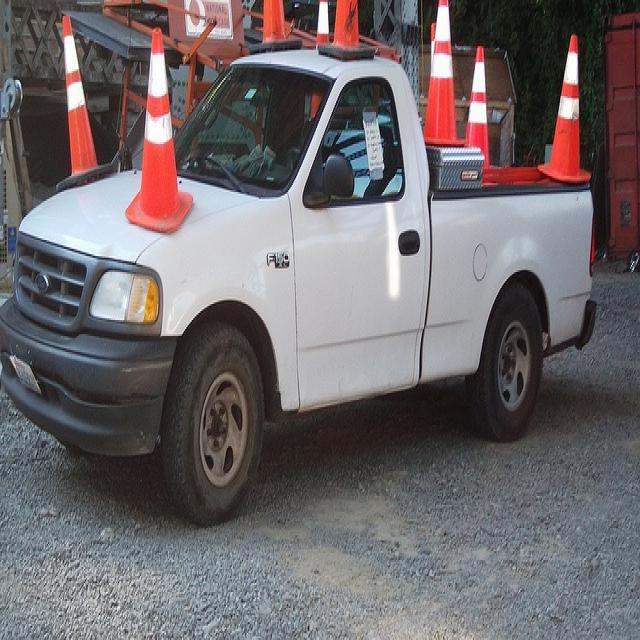reflective_cone: (124, 22, 193, 230), (57, 14, 111, 187), (534, 32, 592, 183), (420, 0, 469, 146), (463, 41, 490, 167)
truck: (0, 37, 596, 523)
